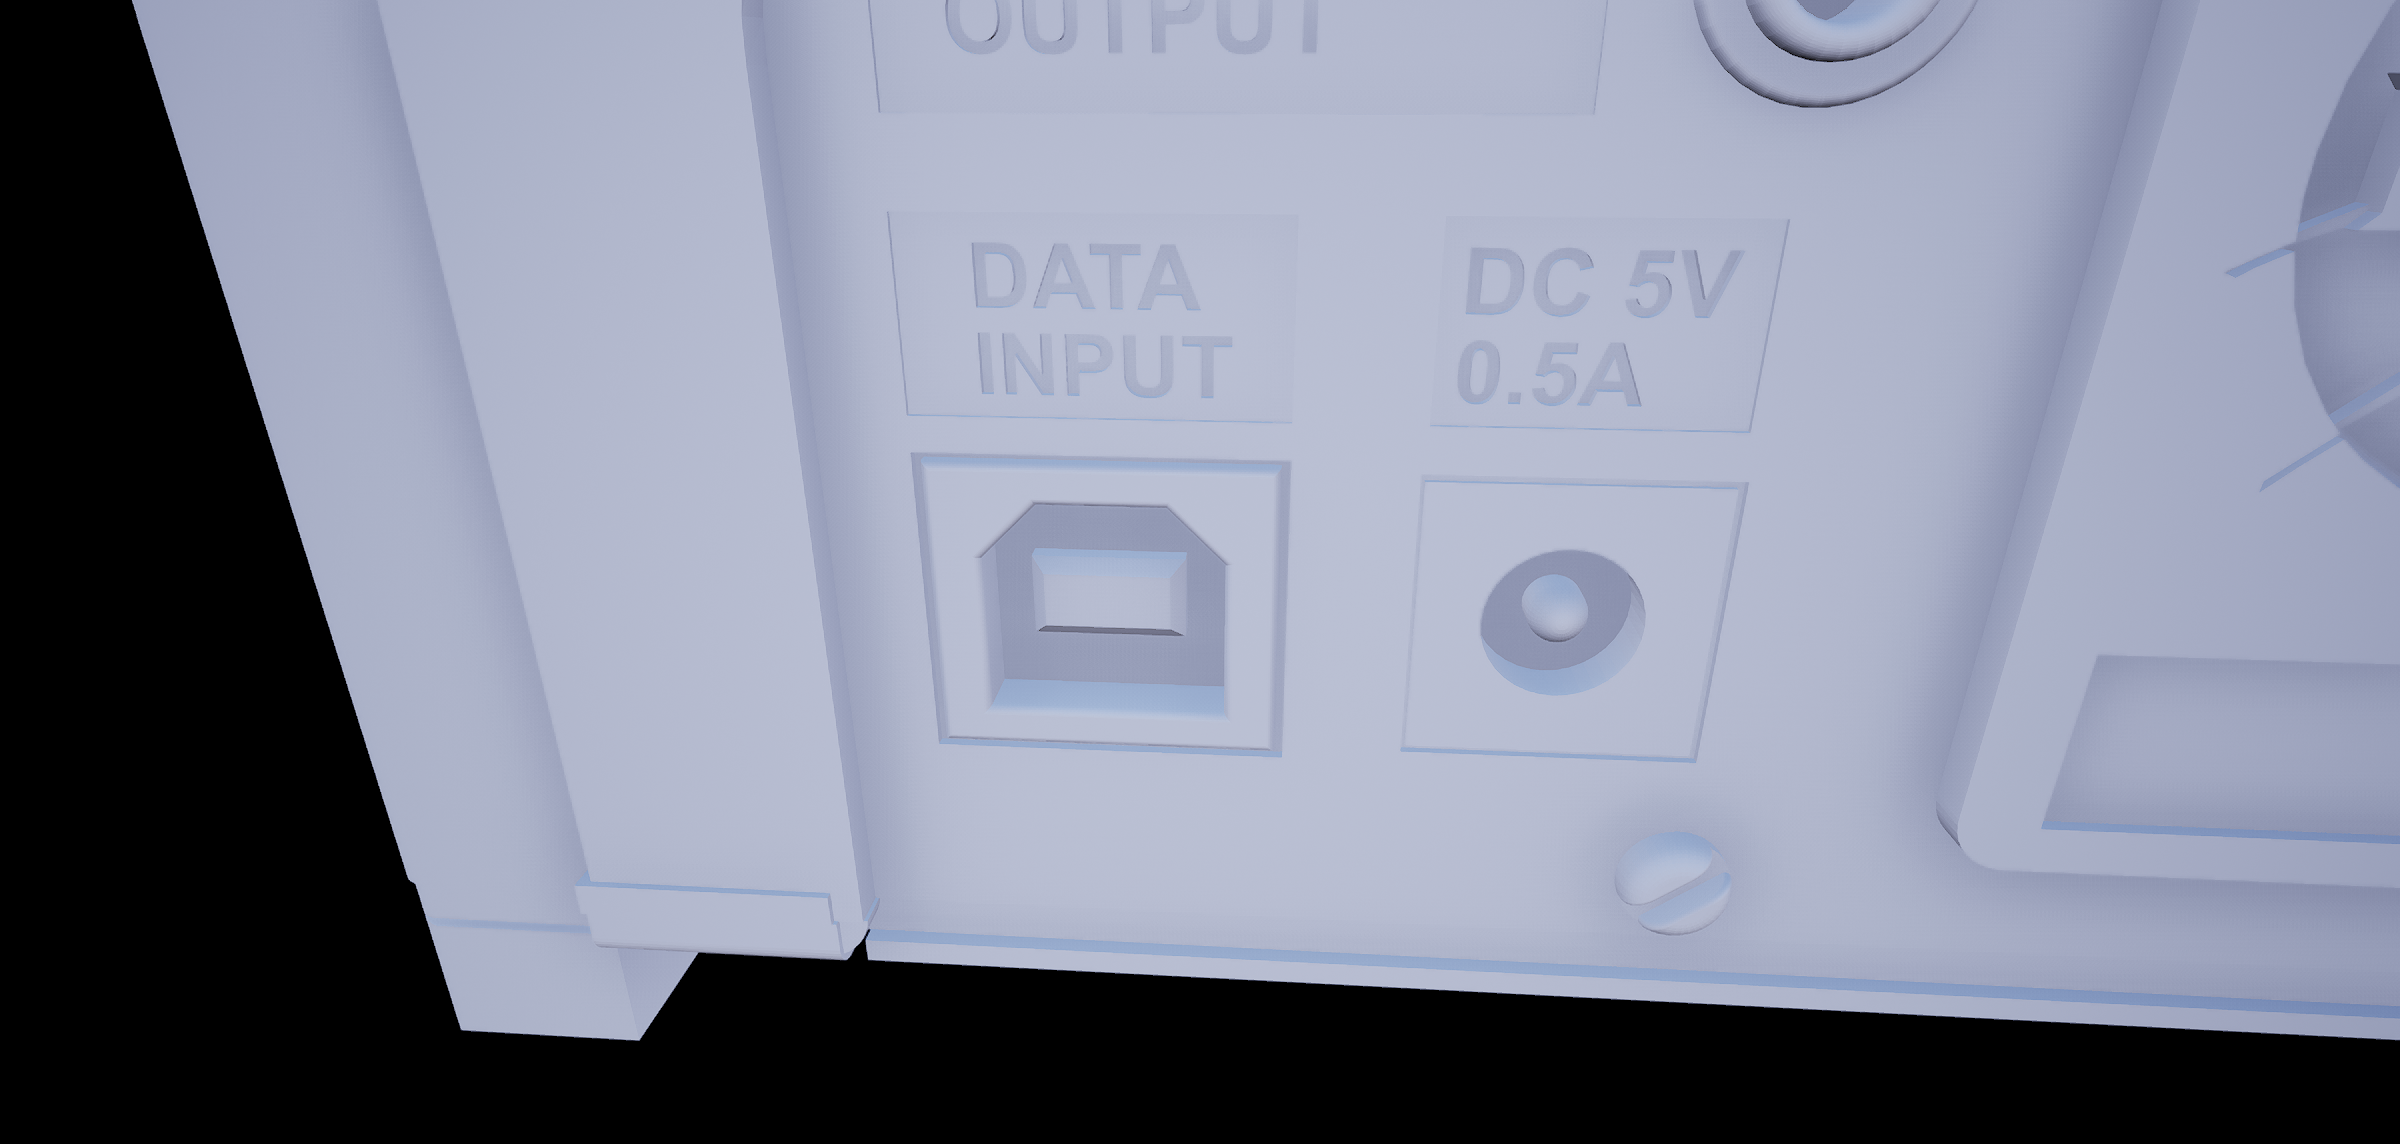aux: (1681, 2, 1985, 115)
dc: (1472, 541, 1652, 706)
usb: (960, 485, 1247, 735)
